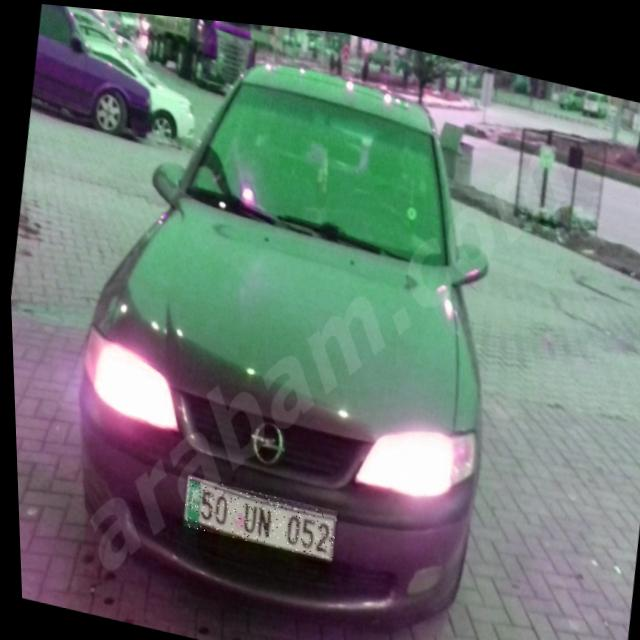license_plate: (177, 472, 335, 555)
